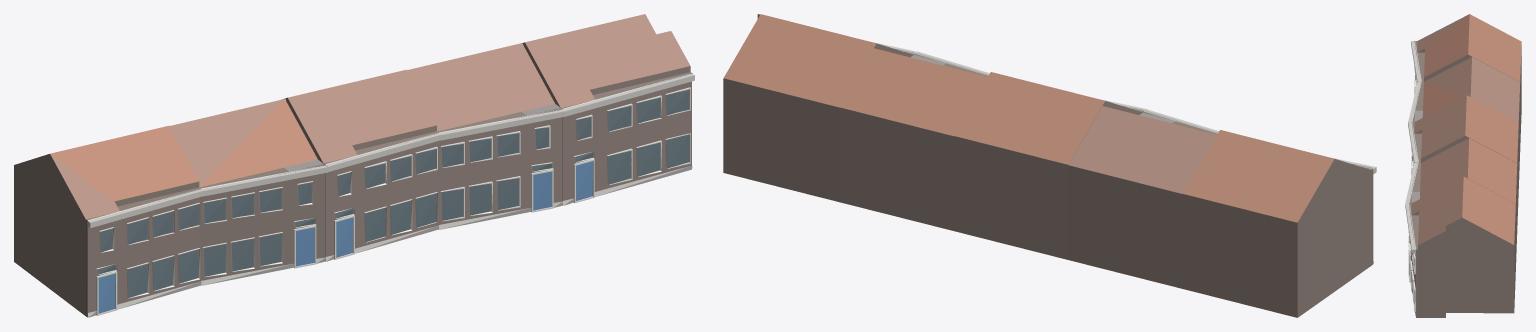
The model's file is chunk-face-vaalrivier-2-14-r1.lod2.glb.
3 views of the same model, side by side, from view 1: azimuth 30°, elevation 25°; view 2: azimuth 150°, elevation 25°; view 3: azimuth 270°, elevation 25° (orthographic). The views are drawn at different scales.
Visible parts, largest first — view 1: lod2; view 2: lod2; view 3: lod2.
Boxes of the visible parts, bbox=[...] form: lod2: bbox=[14, 14, 694, 317]; lod2: bbox=[723, 14, 1376, 317]; lod2: bbox=[1405, 14, 1521, 317].
Size of the model in its own units: 41.12 by 8.79 by 9.69.
